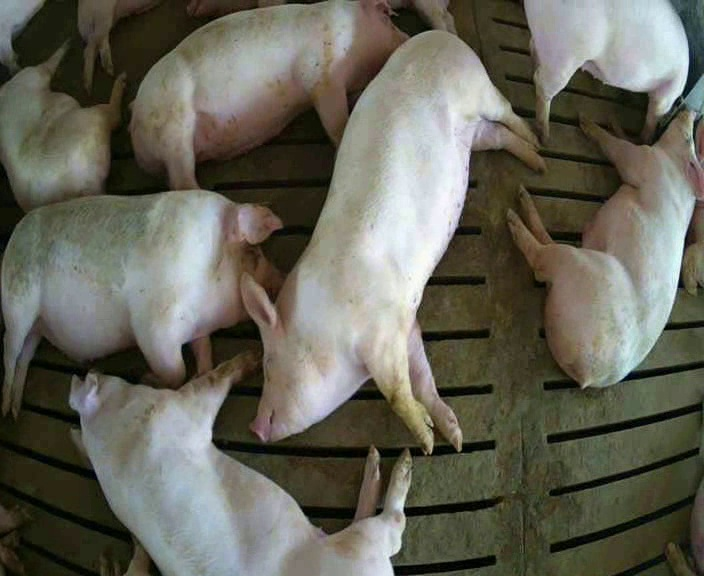pig: (242, 31, 544, 452), (70, 354, 410, 573), (2, 190, 281, 413), (507, 111, 703, 387), (129, 2, 406, 188), (525, 2, 687, 141), (0, 42, 124, 210)
